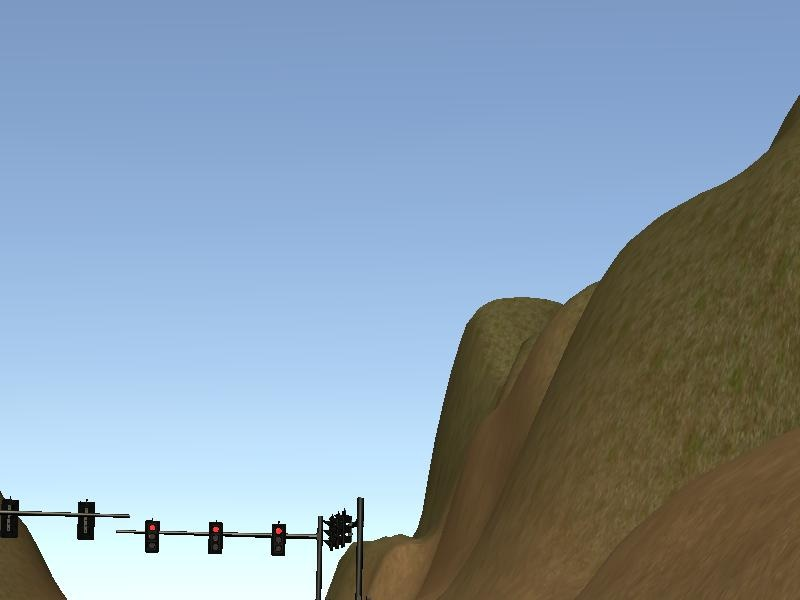red: (144, 519, 161, 552), (207, 522, 223, 552), (272, 522, 286, 555)
